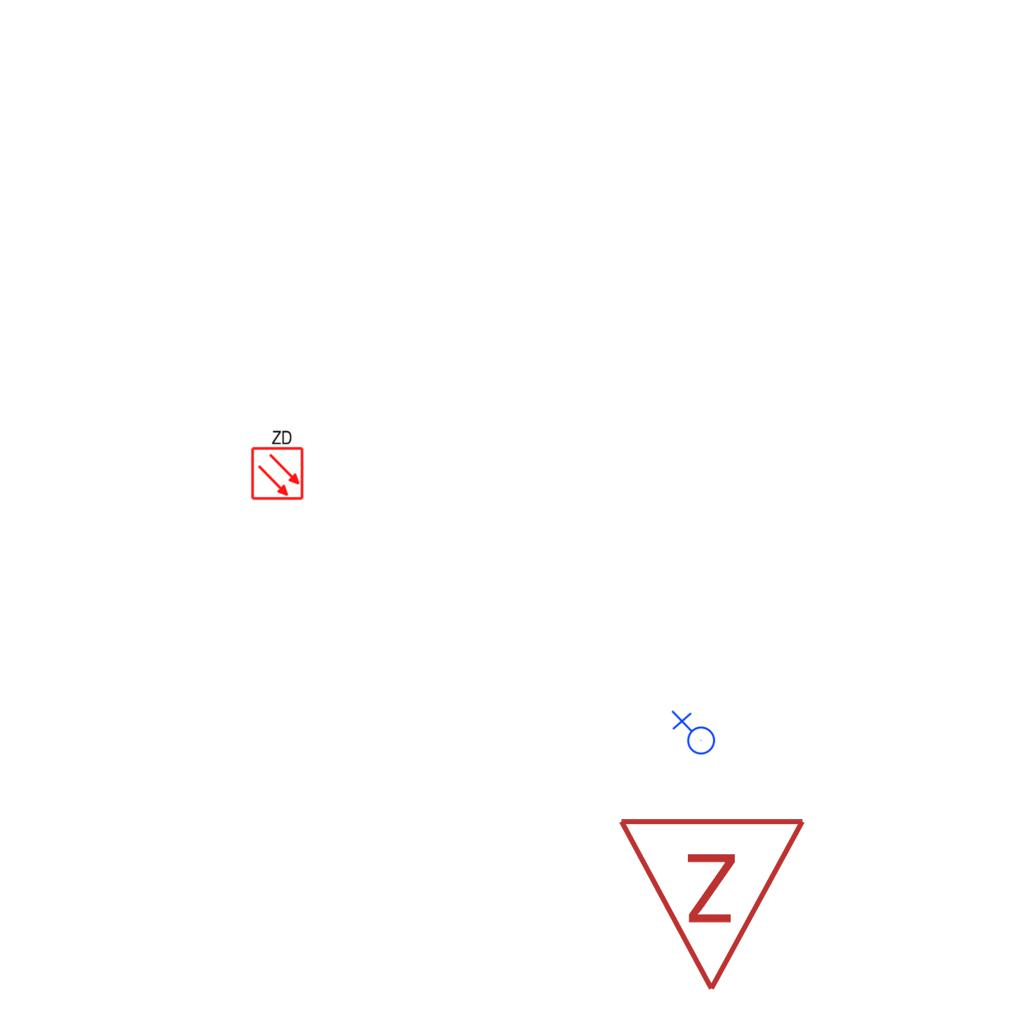Elektroanschluss_allgemein_230V_Geraeteanschlussdose_230V: (669, 710, 716, 759)
ZD_Melder_in_Zwischendecke_mit_Revisionsoeffnung_mind_40_x_40_cm: (248, 427, 305, 501)
Zimmersignalleuchte: (616, 804, 812, 1004)
